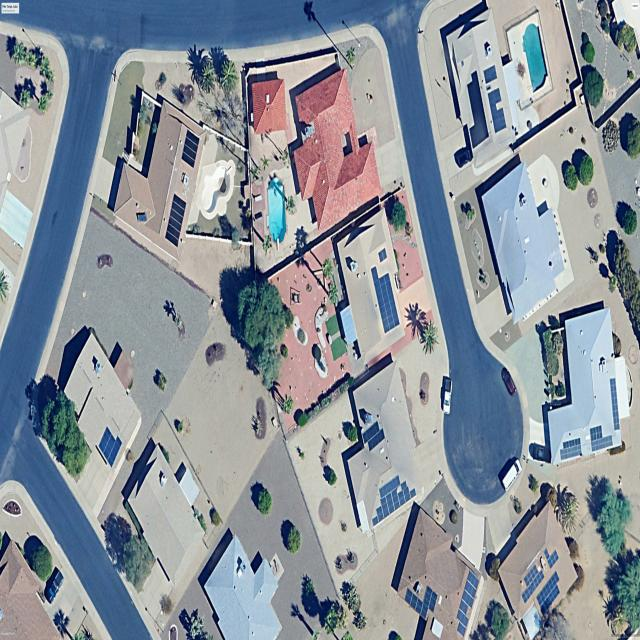Home: (111, 101, 205, 261), (63, 333, 141, 517), (294, 69, 382, 231), (482, 162, 564, 324), (548, 308, 629, 465), (394, 507, 482, 640), (349, 363, 417, 532), (128, 444, 204, 586), (447, 9, 517, 161), (499, 503, 577, 638), (337, 210, 404, 364), (204, 536, 281, 640), (252, 79, 286, 134)
